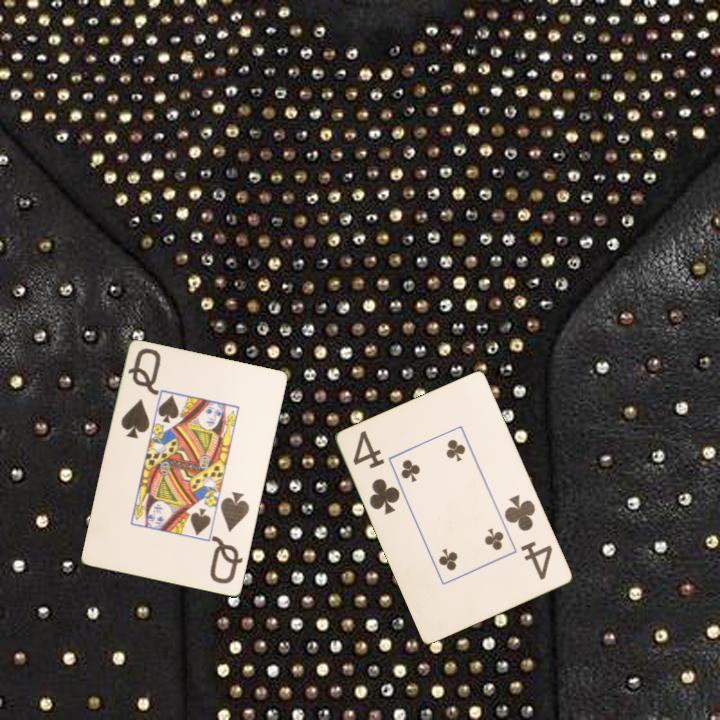4c: (501, 491, 556, 583), (349, 427, 403, 518)
Qs: (206, 489, 253, 587), (117, 345, 164, 442)
